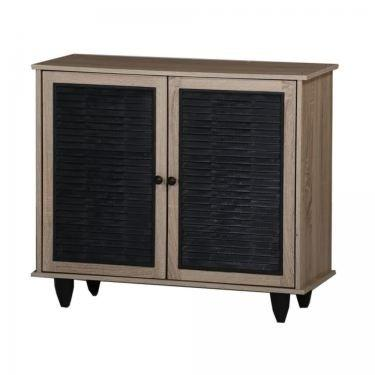cabinet_door: (168, 81, 296, 282), (41, 75, 166, 278)
handle: (155, 173, 165, 188), (168, 174, 177, 189)
